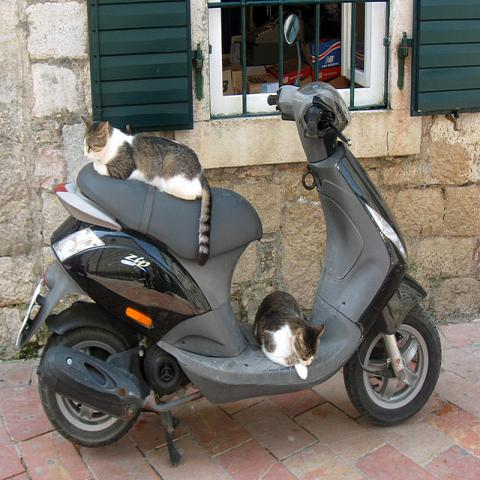motorcycle: (14, 14, 441, 463)
